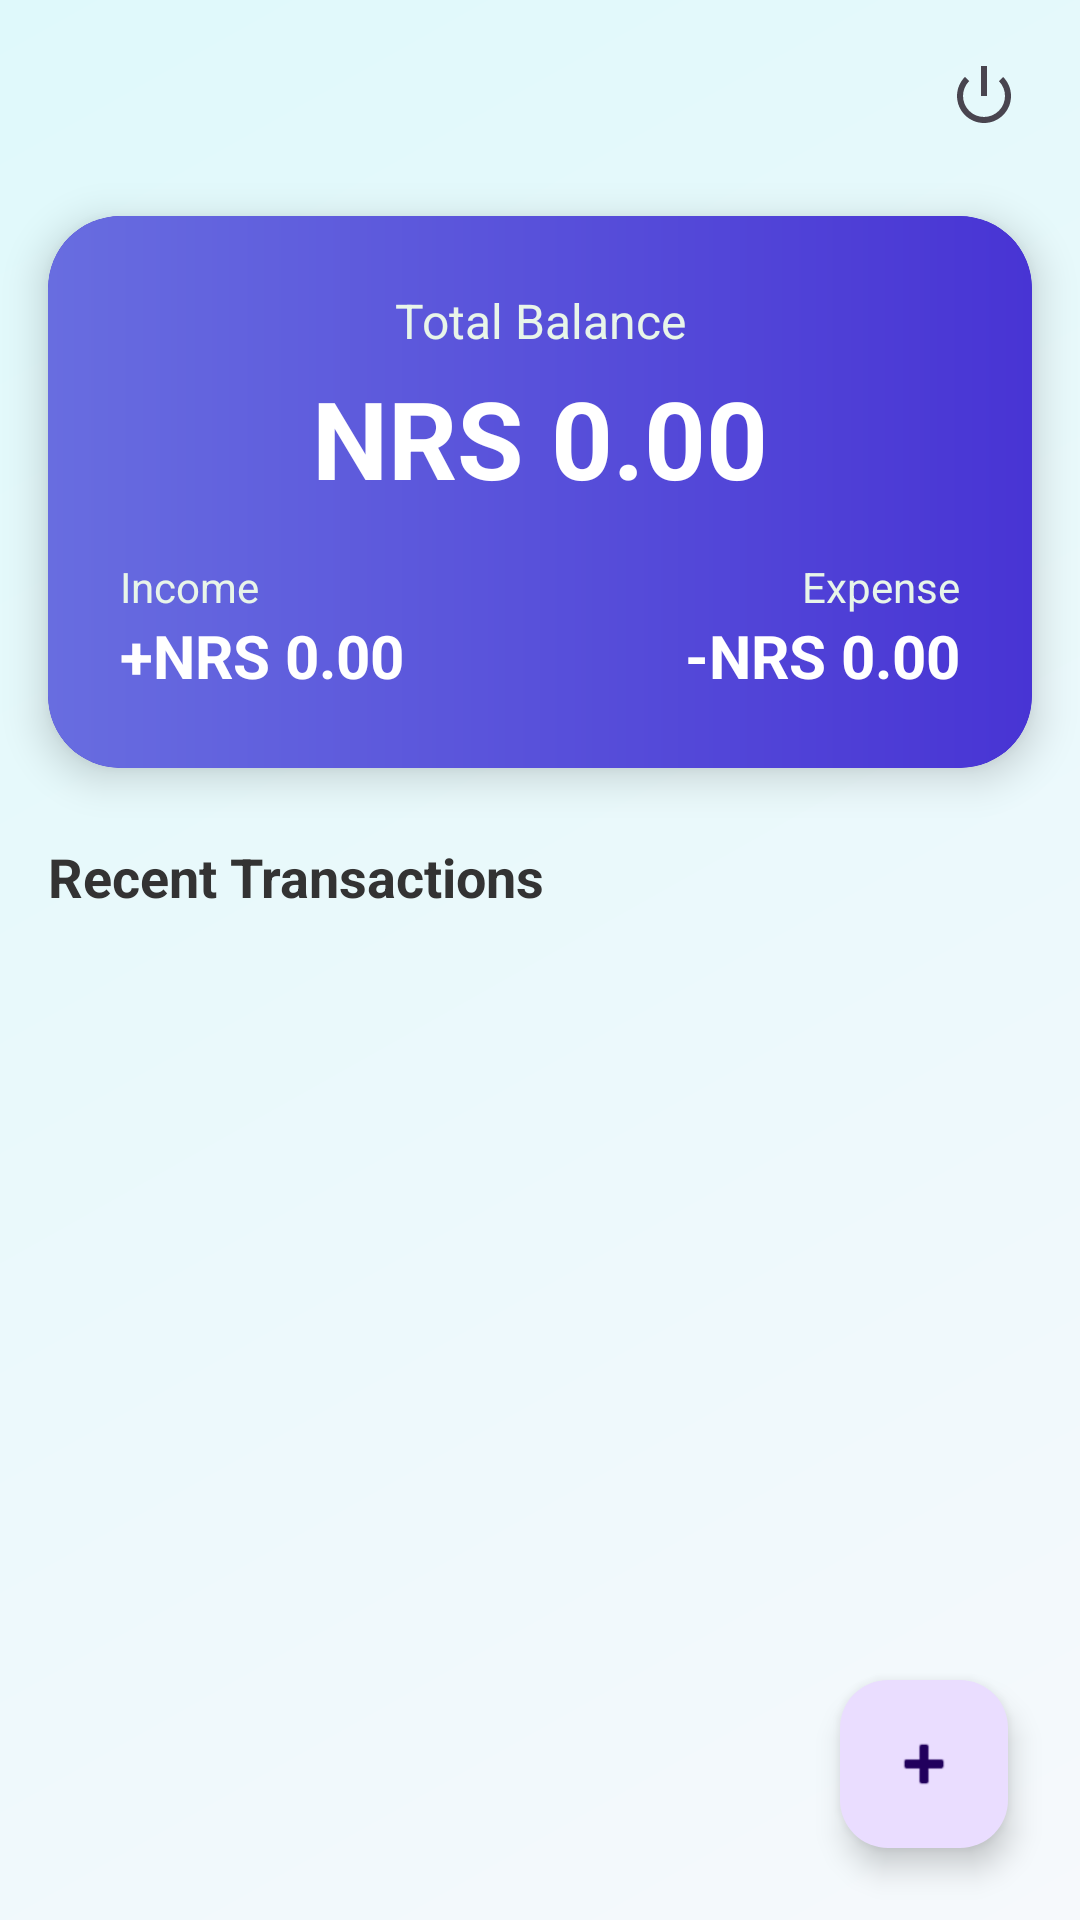

Named icons in this screenshot (1080 × 1920) and their centers, (x=x, y=y):
add: (x=924, y=1764)
lock power off: (x=984, y=94)
